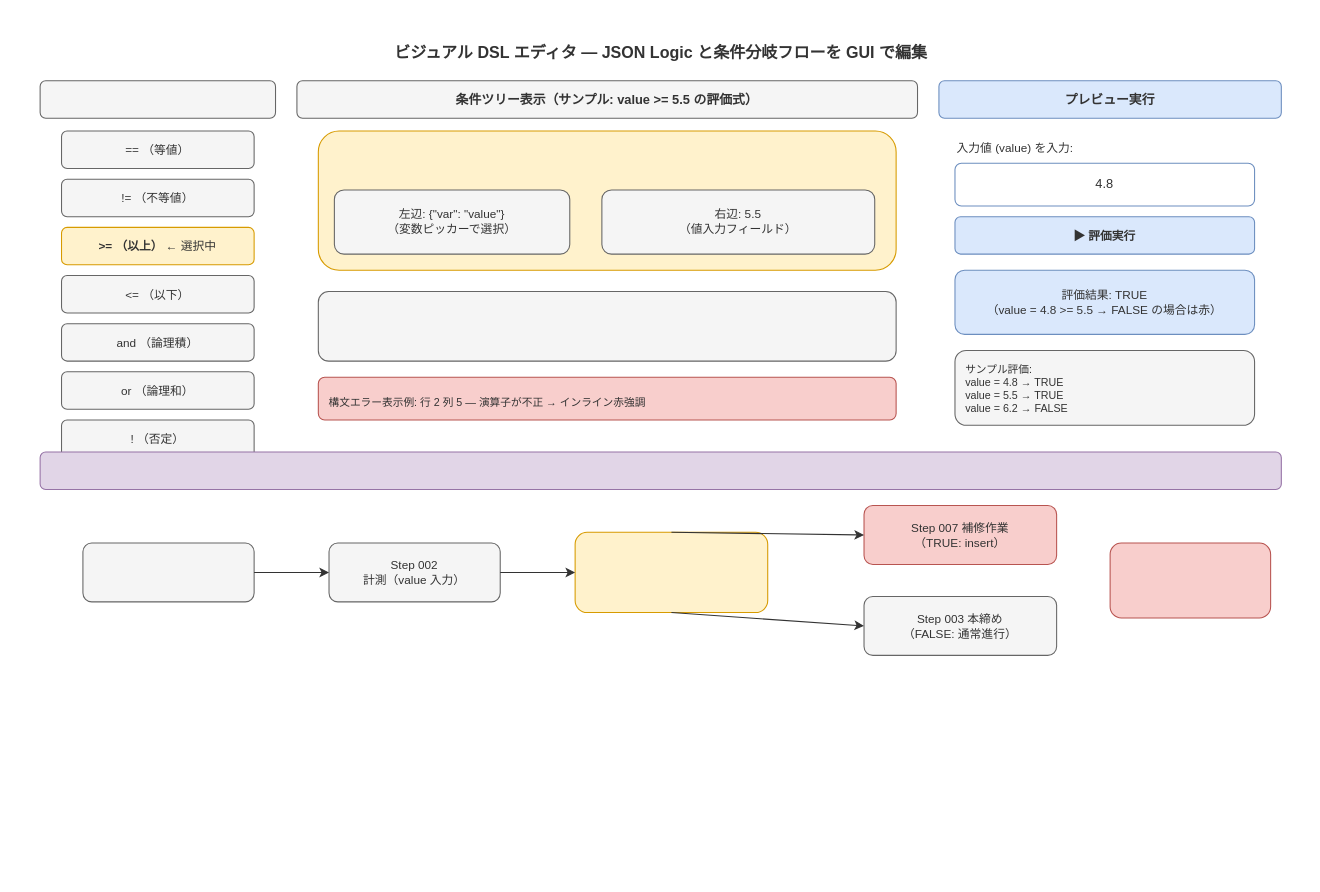
The diagram is 1320 pixels wide and 892 high, and some of its shapes have lost their labels. The box of each missing label's shape, as (x1, y1, x2, y2) in pixels:
DAG ビジュアライザ — 条件分岐フローをノード＆エッジで可視化（循環参照は赤強調）: (39, 451, 1281, 490)
RAW JSON （ビジュアルモード ⇔ RAW JSON モード 随時切替）: { ">=": [ {"var": "value"}, 5.5 ] }: (317, 291, 896, 361)
Step 001 初期点検: (82, 542, 254, 602)
循環参照検出時: エッジを赤で強調 登録をブロック: (1109, 542, 1271, 618)
条件評価 value >= 5.5 ?: (574, 531, 768, 613)
演算子: >= （ドラッグ＆ドロップで配置）: (317, 130, 896, 270)
演算子パレット: (39, 80, 276, 118)
